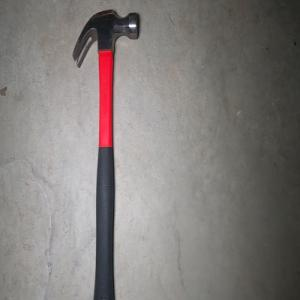Hammer: (71, 7, 139, 300)
